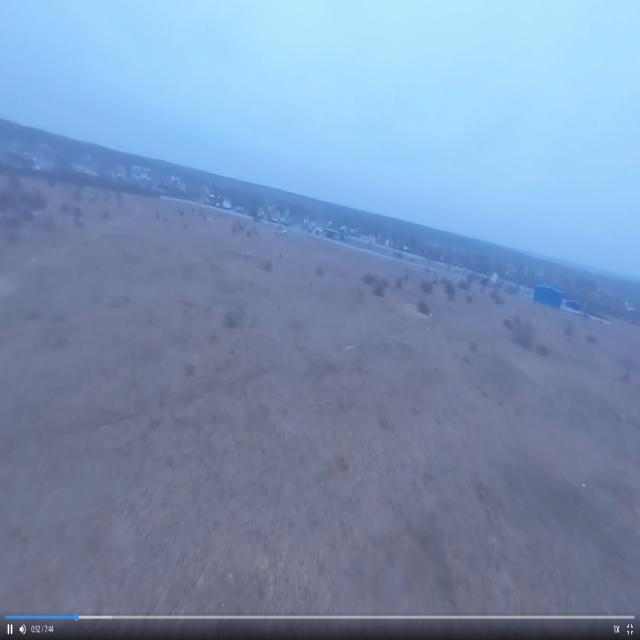planedrone: (272, 218, 304, 246)
